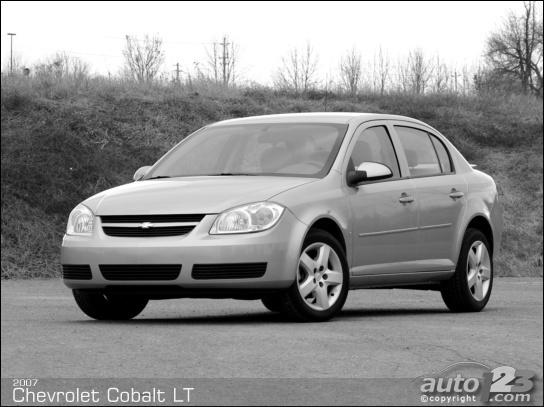car: (59, 111, 505, 324)
